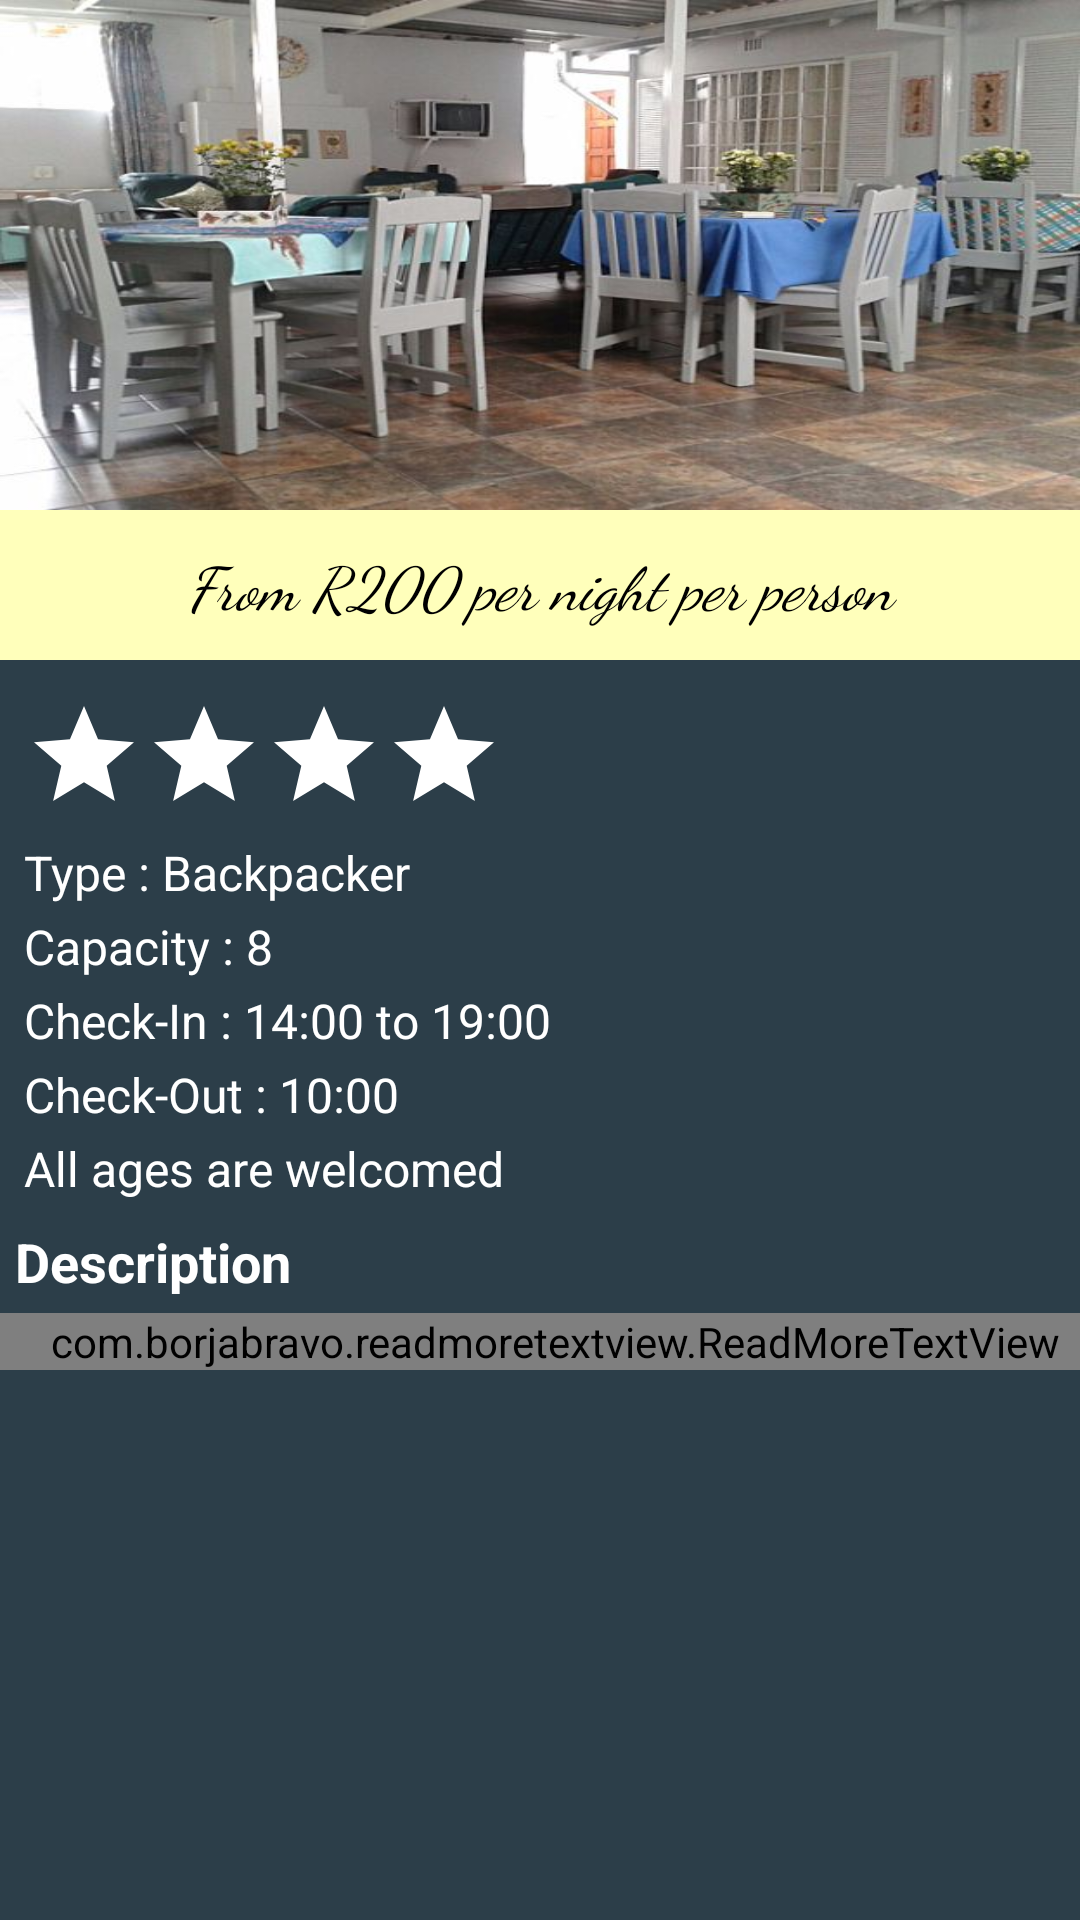

Locate icon controls on the screen. Image size 1080x1920, boxes as (x1, y1, x2, y2).
star: (34, 706, 134, 801), (154, 706, 254, 801), (274, 706, 374, 801), (394, 706, 494, 801)
